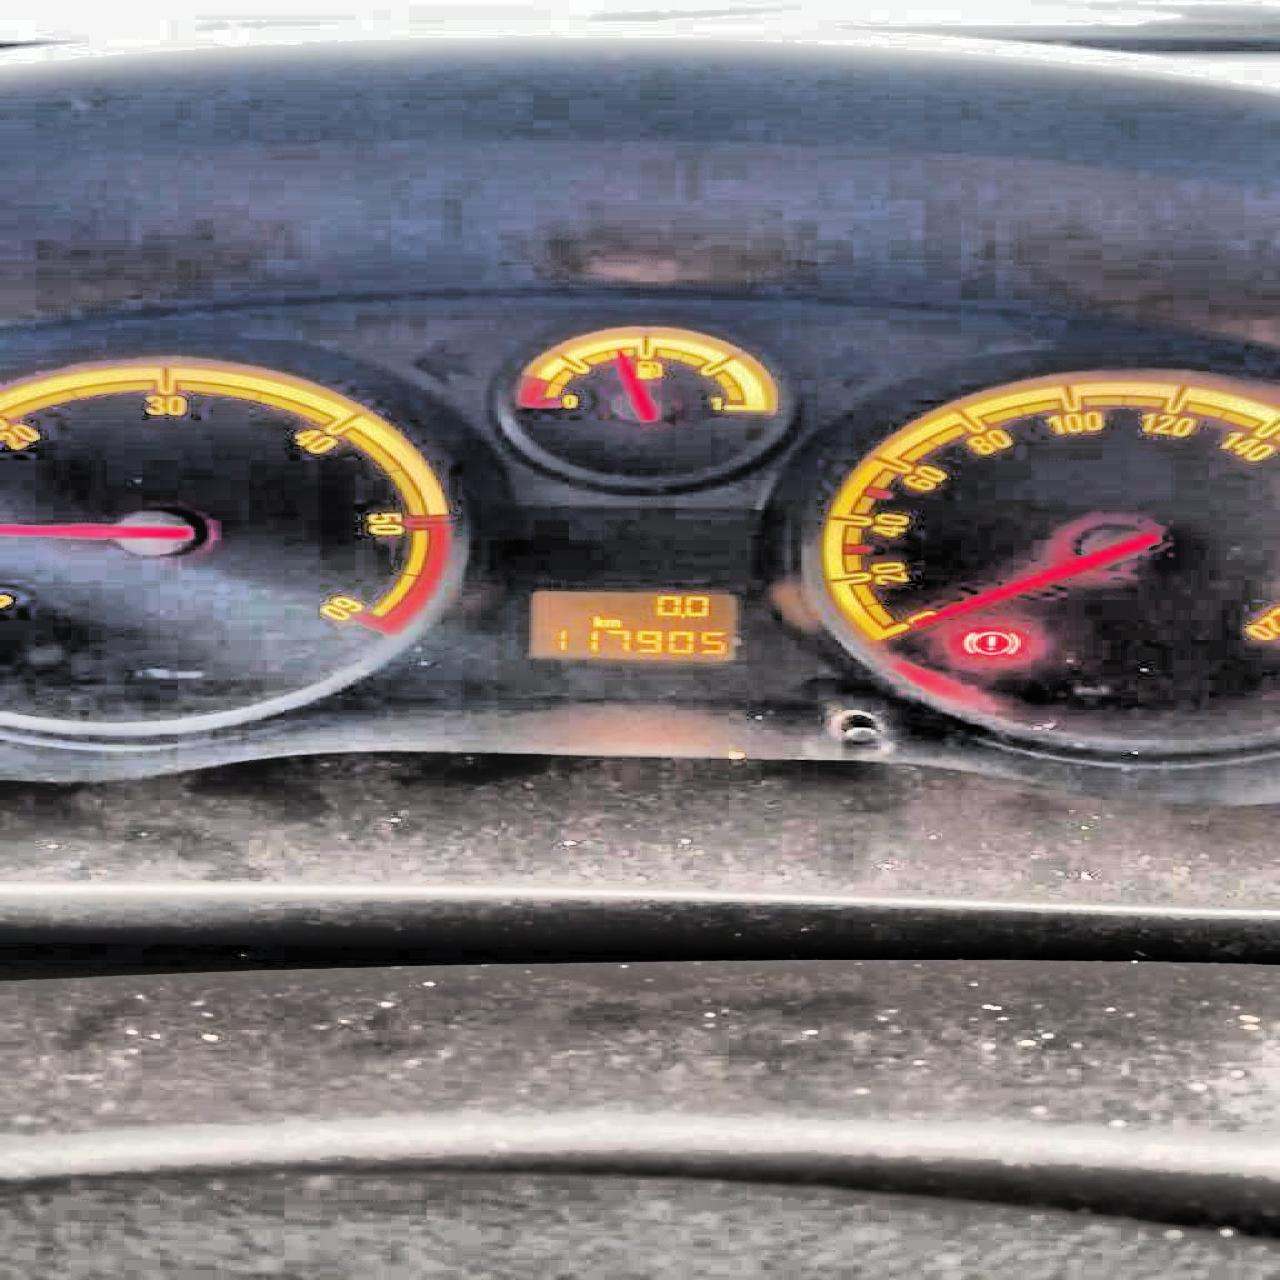-: (678, 611, 685, 619)
0: (665, 628, 694, 653), (653, 592, 680, 617), (682, 595, 712, 617)
1: (587, 628, 602, 653), (556, 626, 568, 652)
5: (695, 629, 724, 654)
7: (605, 627, 628, 652)
9: (633, 628, 662, 653)
X: (588, 613, 602, 627), (602, 618, 620, 626)
odometer: (518, 588, 744, 665)
